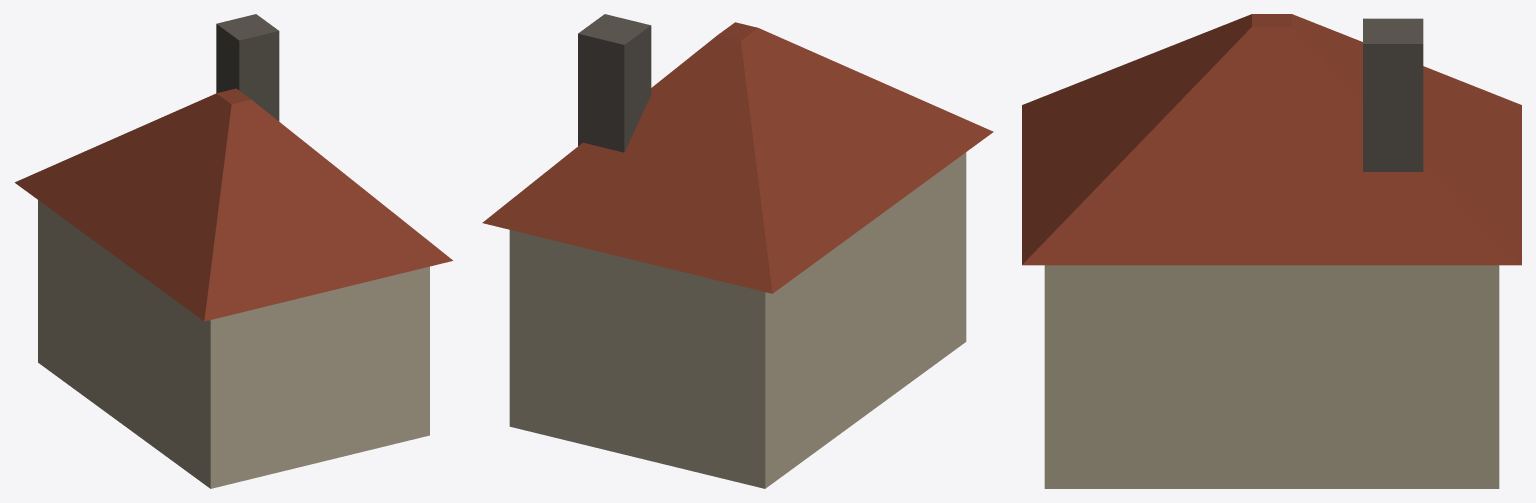
Rendered from house.glb.
The picture shows the model from 3 angles, left to right: view 1: azimuth 30°, elevation 25°; view 2: azimuth 150°, elevation 25°; view 3: azimuth 270°, elevation 25°; orthographic projection. The views are drawn at different scales.
Parts seen in each view (by area): view 1: house; view 2: house; view 3: house.
Boxes of the visible parts, x1,y1,x2,y2 form: house: (14, 14, 453, 488); house: (482, 14, 993, 488); house: (1022, 14, 1521, 488).
Bounding box in the file's own units: 2.5 × 3.1 × 3.3.
